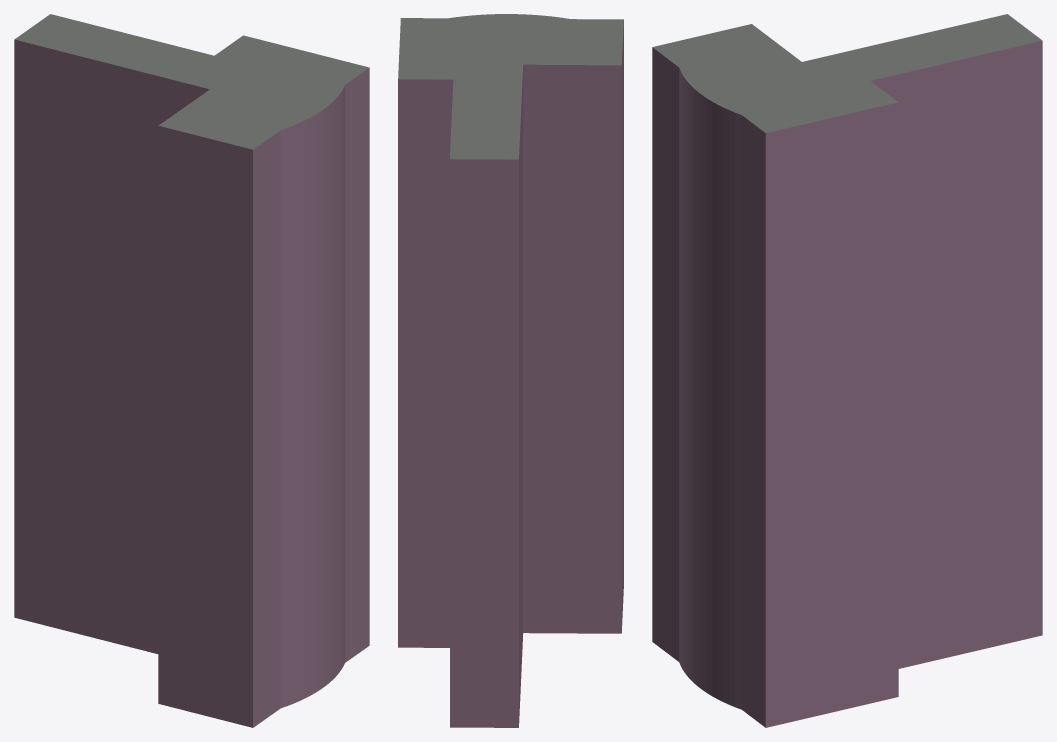
Rendered from nyc-1085873-0.glb.
The picture shows the model from 3 angles, left to right: view 1: azimuth 30°, elevation 25°; view 2: azimuth 150°, elevation 25°; view 3: azimuth 270°, elevation 25°; orthographic projection. The views are drawn at different scales.
Parts seen in each view (by area): view 1: nyc-1085873-0; view 2: nyc-1085873-0; view 3: nyc-1085873-0.
Boxes of the visible parts, x1,y1,x2,y2 form: nyc-1085873-0: (14, 14, 369, 727); nyc-1085873-0: (398, 14, 623, 727); nyc-1085873-0: (652, 14, 1042, 727).
Size of the model in its own units: 44.22 by 103 by 61.17.
